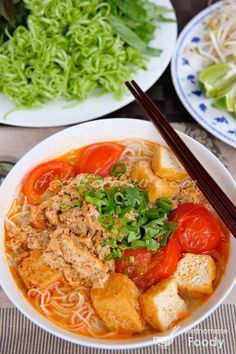onion: (105, 187, 162, 247)
rieu: (49, 229, 105, 282), (51, 194, 101, 240)
tofu: (90, 274, 137, 328), (139, 278, 185, 325), (172, 251, 217, 298), (14, 249, 58, 288)
tomato: (22, 151, 72, 205), (167, 204, 220, 254), (70, 136, 123, 175), (125, 241, 178, 279)
